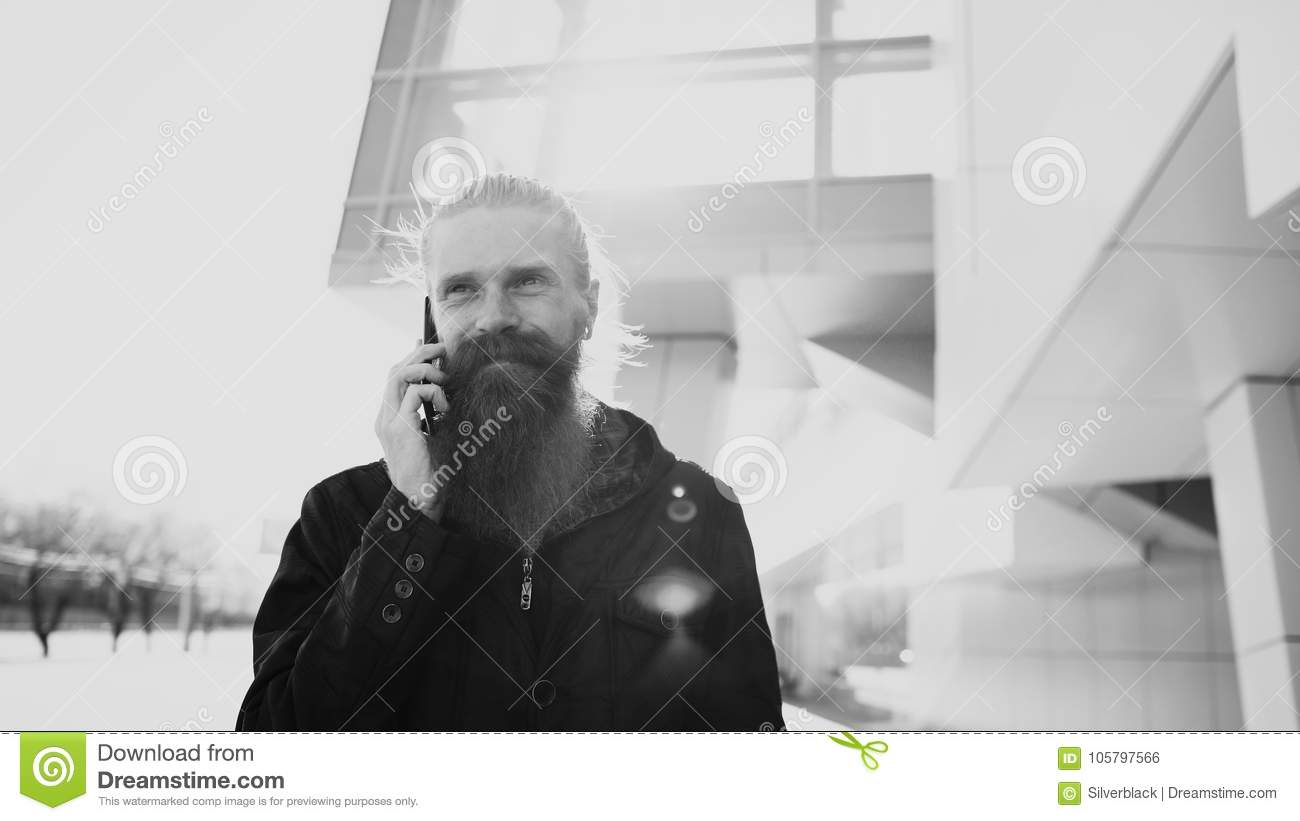phone: (415, 294, 442, 439)
talk: (376, 264, 571, 510)
